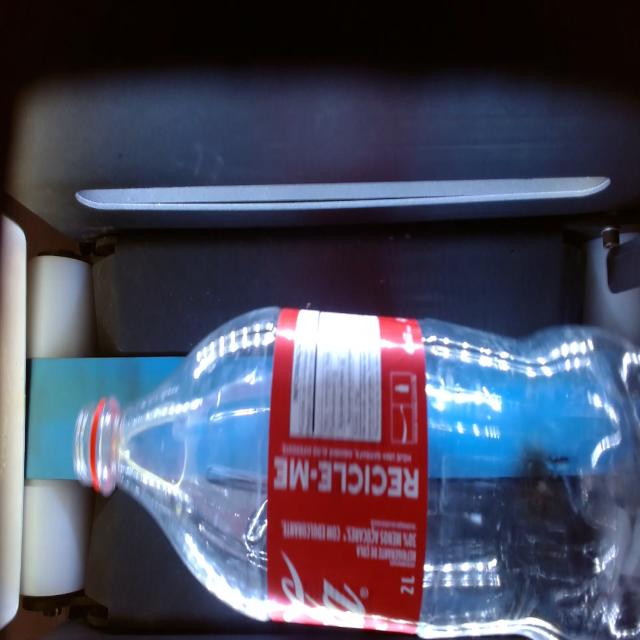bottom: (559, 302, 640, 640)
no_cap: (63, 398, 137, 488)
